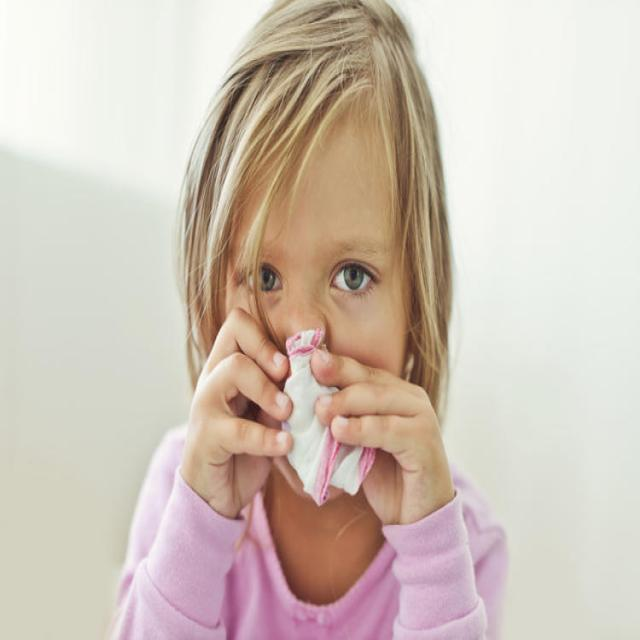child: (116, 0, 509, 640)
